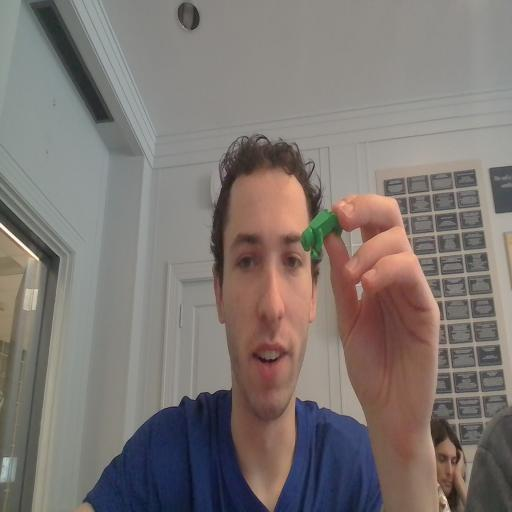green LEGO minifig: (300, 202, 344, 266)
